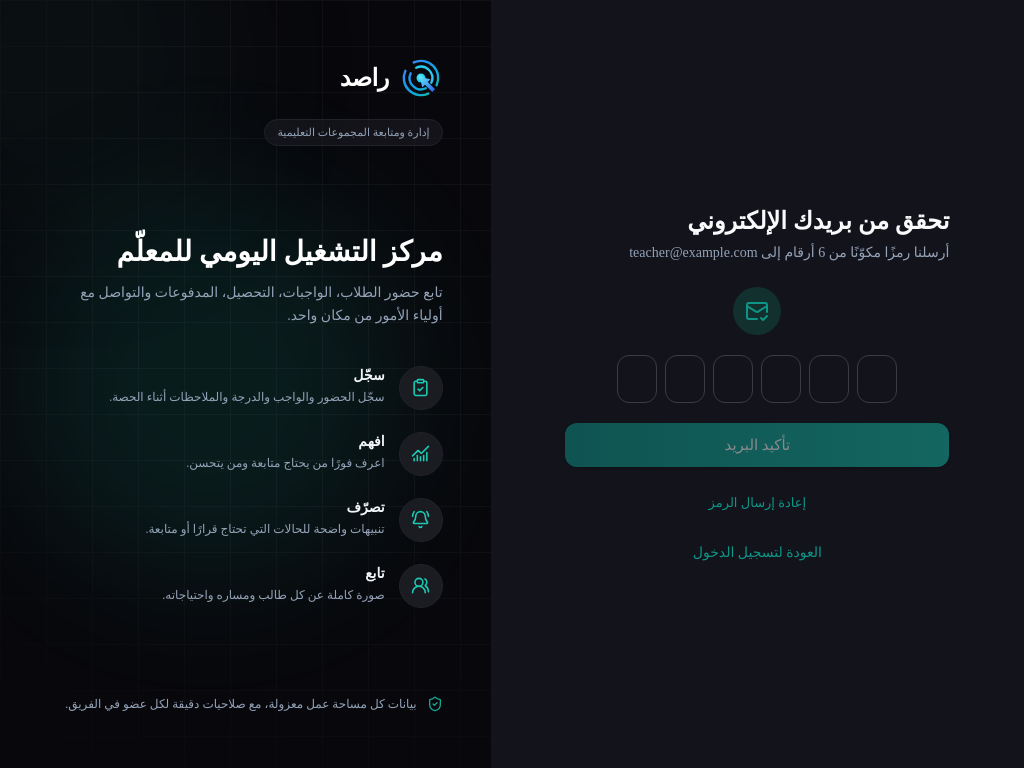
it: VerifyEmailPage › verifies a correct 6-digit code via verifyOtp({ type: 'email' }) and redirects a NEW user to /onboarding
Type "1" into the field named "رقم 1 من رمز التحقق" at (637, 379), box left=617, top=355, right=657, bottom=403
Type "2" into the field named "رقم 2 من رمز التحقق" at (685, 379), box left=665, top=355, right=705, bottom=403
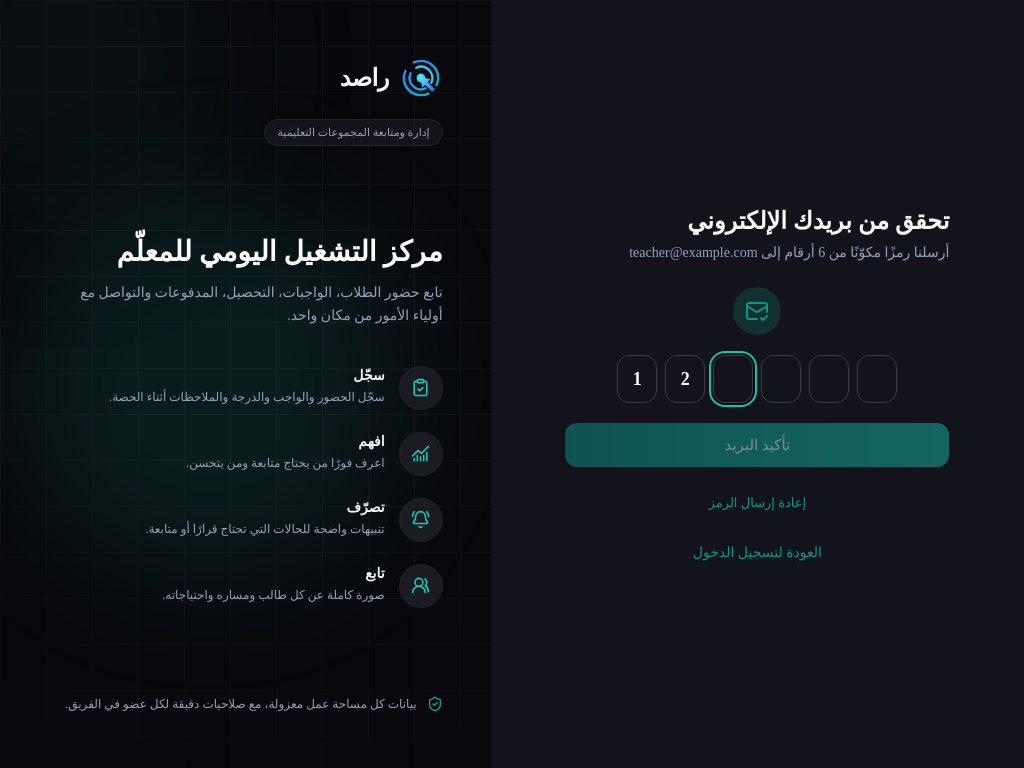
Type "3" into the field named "رقم 3 من رمز التحقق" at (733, 379), box left=713, top=355, right=753, bottom=403
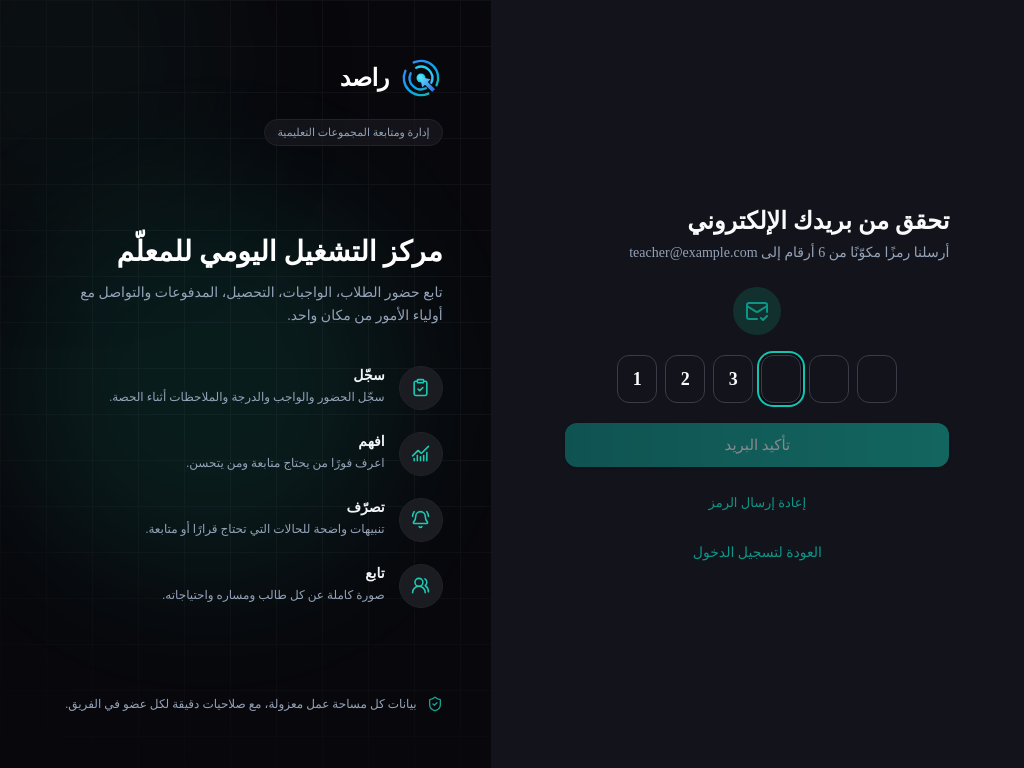
Type "4" into the field named "رقم 4 من رمز التحقق" at (781, 379), box left=761, top=355, right=801, bottom=403
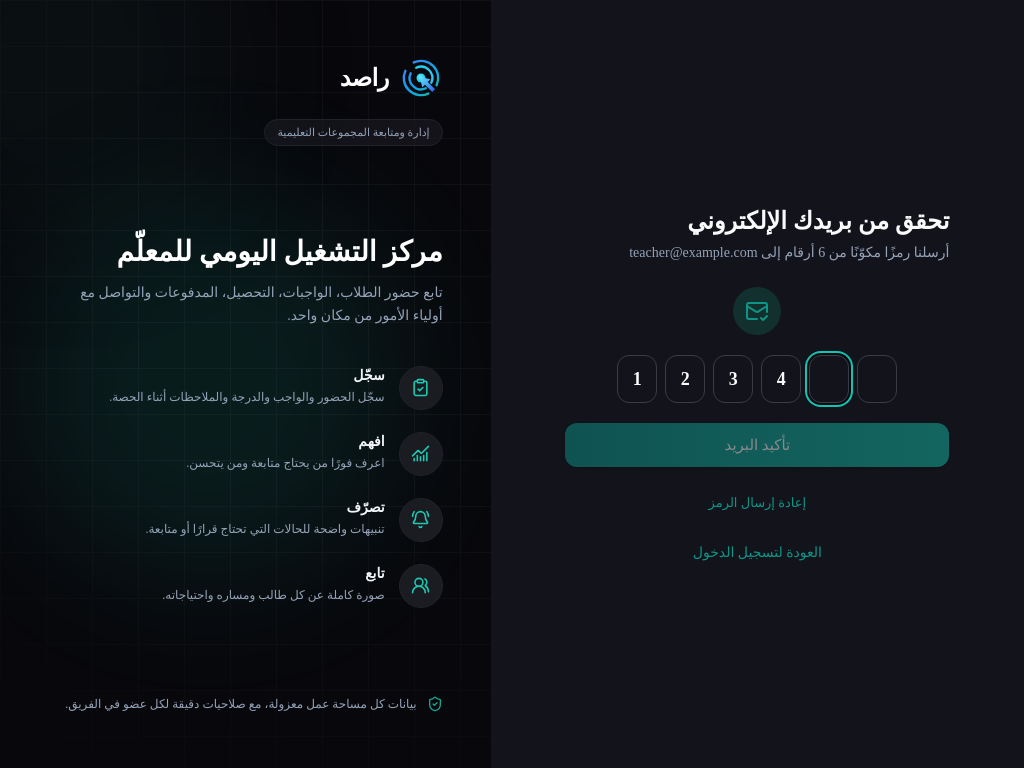
Type "5" into the field named "رقم 5 من رمز التحقق" at (829, 379), box left=809, top=355, right=849, bottom=403
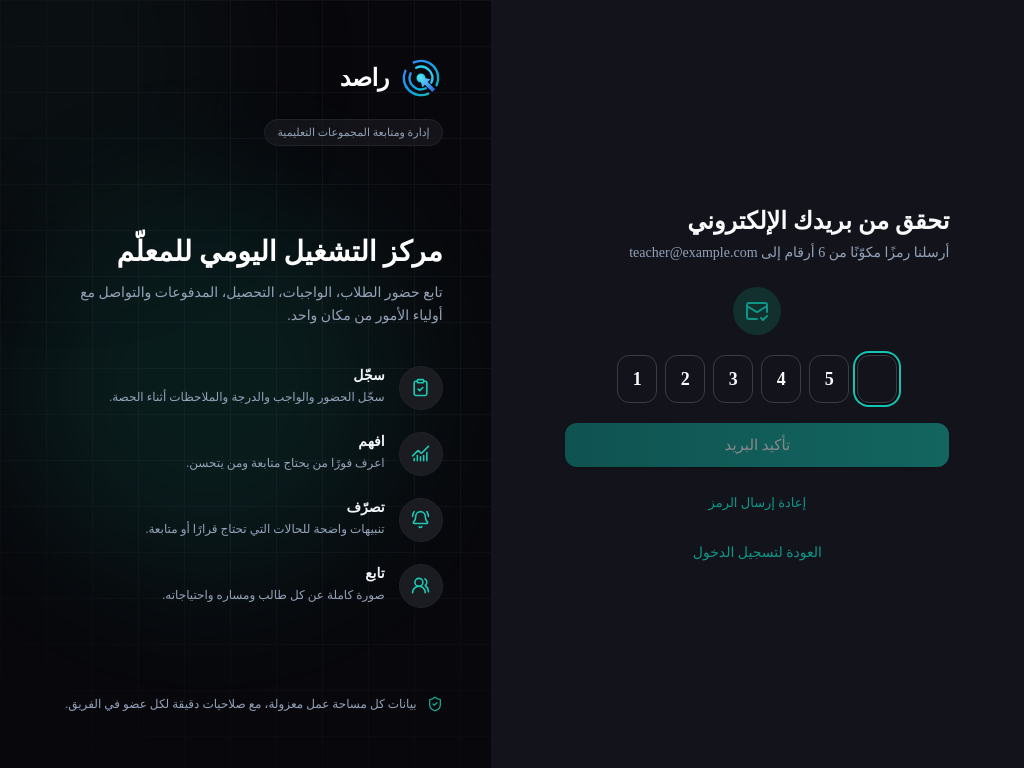
Type "6" into the field named "رقم 6 من رمز التحقق" at (877, 379), box left=857, top=355, right=897, bottom=403
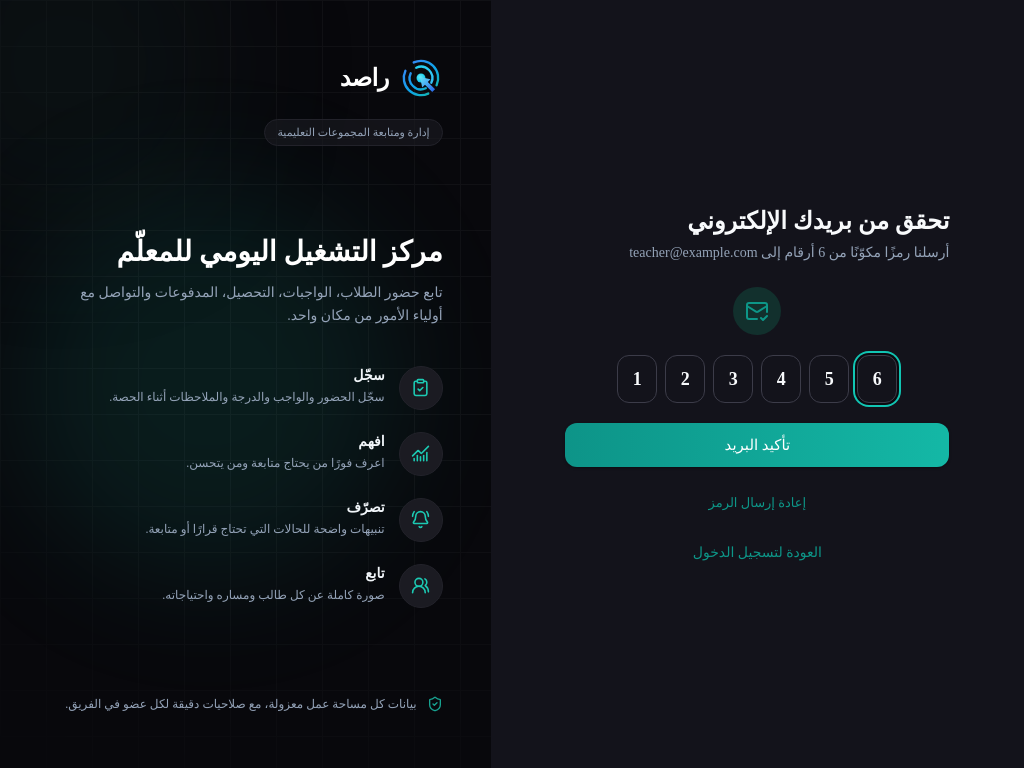
Click the button "تأكيد البريد" at (757, 445), box left=565, top=423, right=949, bottom=467
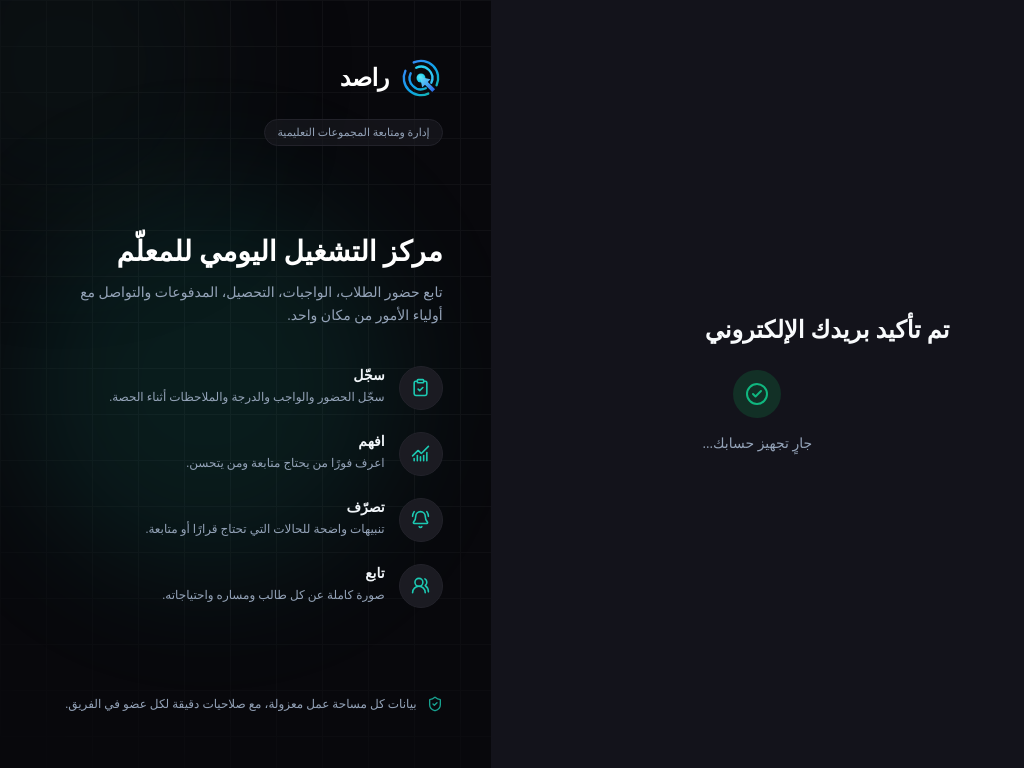
Result: the heading "تم تأكيد بريدك الإلكتروني" is shown at left=705, top=317, right=949, bottom=343
